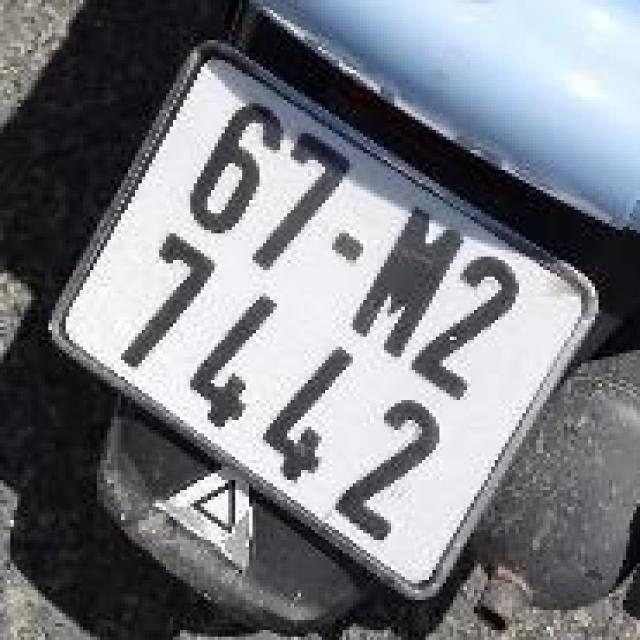2: (398, 241, 548, 415), (323, 385, 469, 550)
4: (248, 324, 394, 494), (173, 280, 323, 443)
6: (170, 89, 308, 252)
7: (233, 119, 371, 287), (98, 220, 231, 383)
M: (331, 196, 485, 380)
